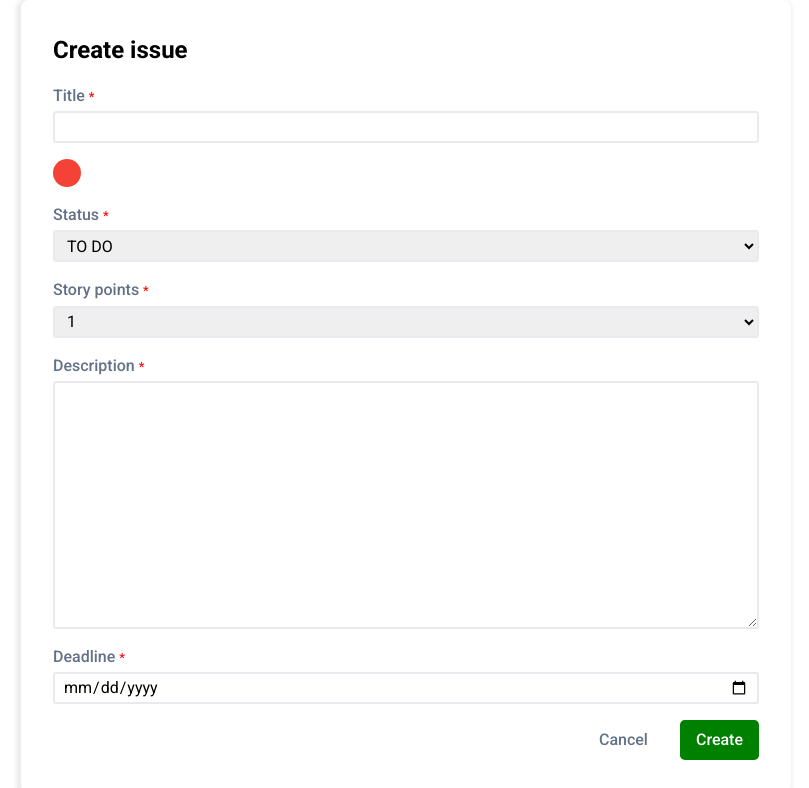
Test: AddUpdateTask › displays validation messages when form is submitted with invalid data
Click the button "Create" at x=720, y=740, box [680, 720, 759, 760]
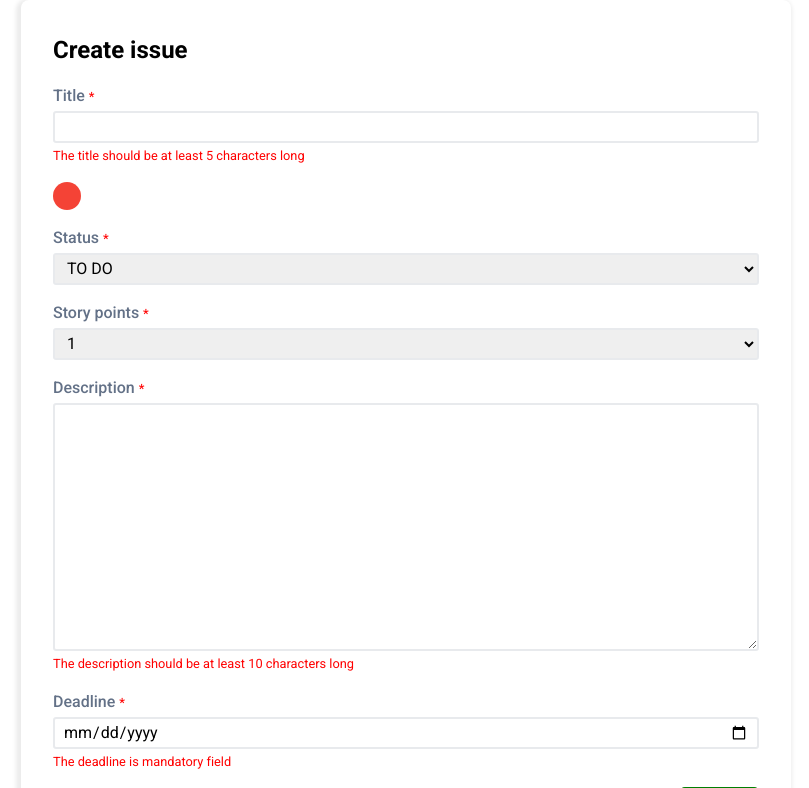
Expected: the text "The title should be at least 5 characters long" is shown, [53, 148, 305, 163]
Expected: the text "The description should be at least 10 characters long" is shown, [53, 656, 354, 671]
Expected: the text "The deadline is mandatory field" is shown, [53, 754, 231, 769]
